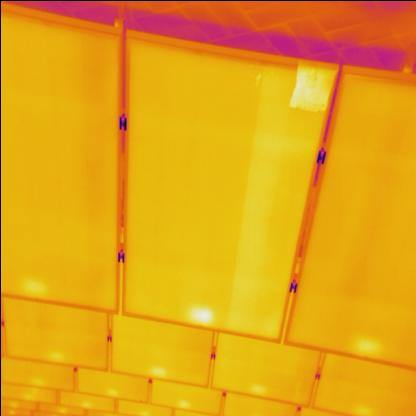hotspot: (286, 63, 332, 112), (186, 300, 216, 330)
